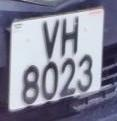0: (41, 58, 62, 102)
2: (58, 53, 78, 101)
3: (76, 51, 96, 96)
8: (19, 60, 43, 109)
H: (58, 12, 82, 60)
V: (39, 16, 62, 61)
